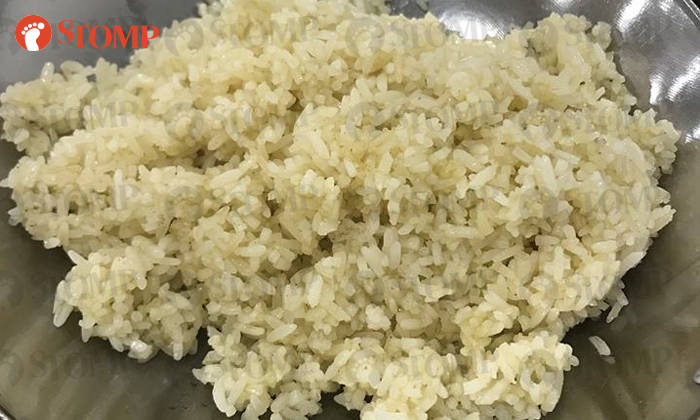plain rice: (136, 89, 574, 311)
